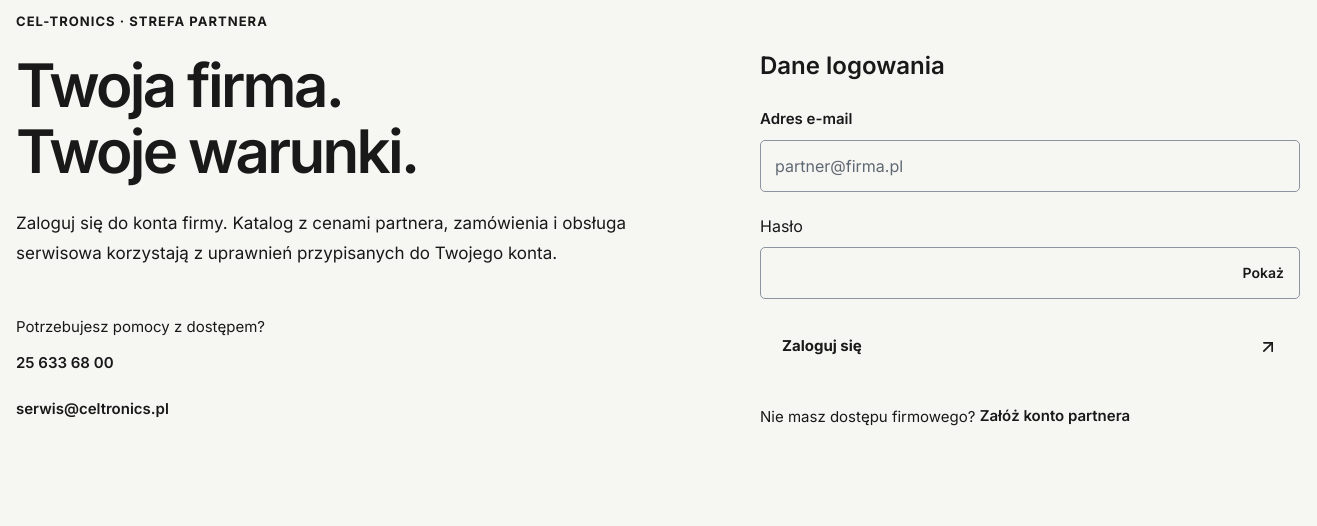
Scenario: login behavior › keeps credential errors generic and does not fetch a success session
Type "proof@example.invalid" into the field labelled "Adres e-mail". click: (1030, 166)
box: 760,140 -> 1300,192
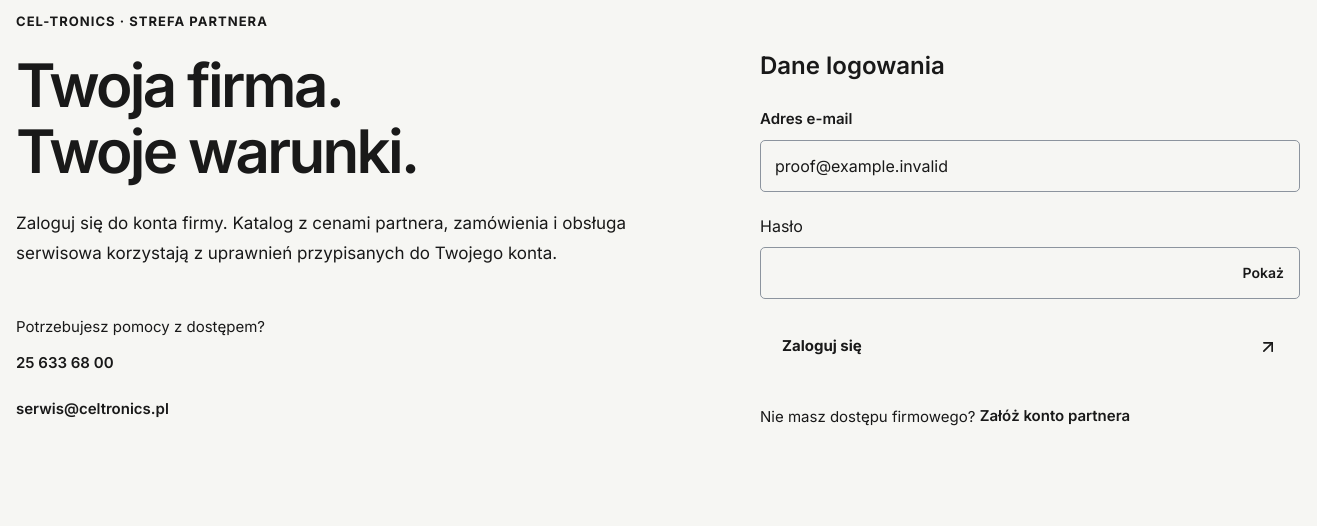
Type "test" into the password field labelled "Hasło". click: (1030, 272)
box: 760,246 -> 1300,298
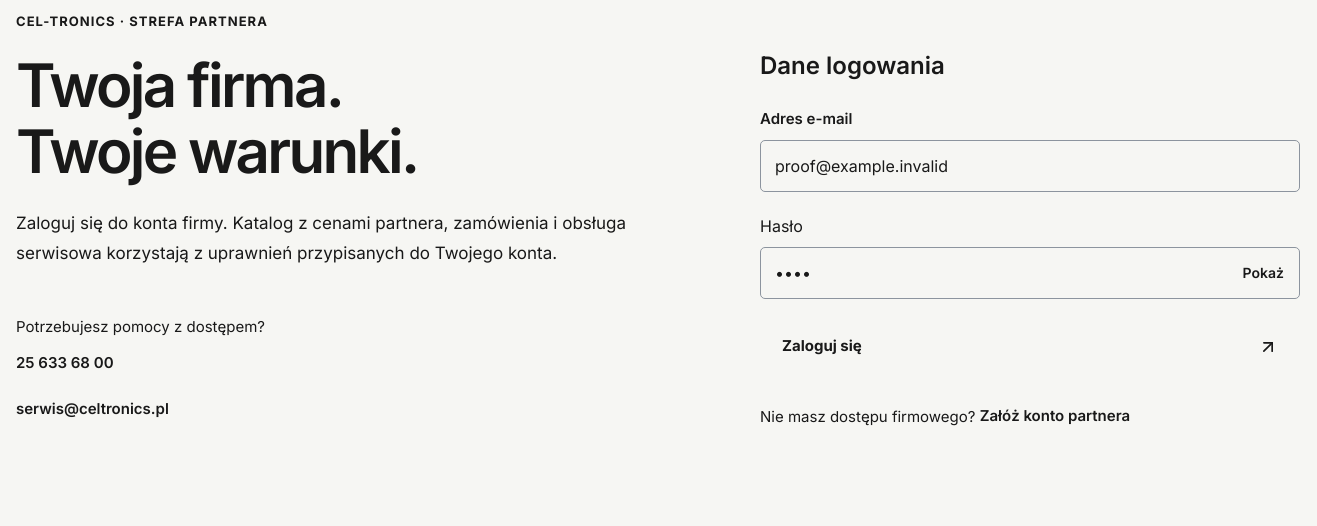
Submit the form, box 760,108 -> 1300,372
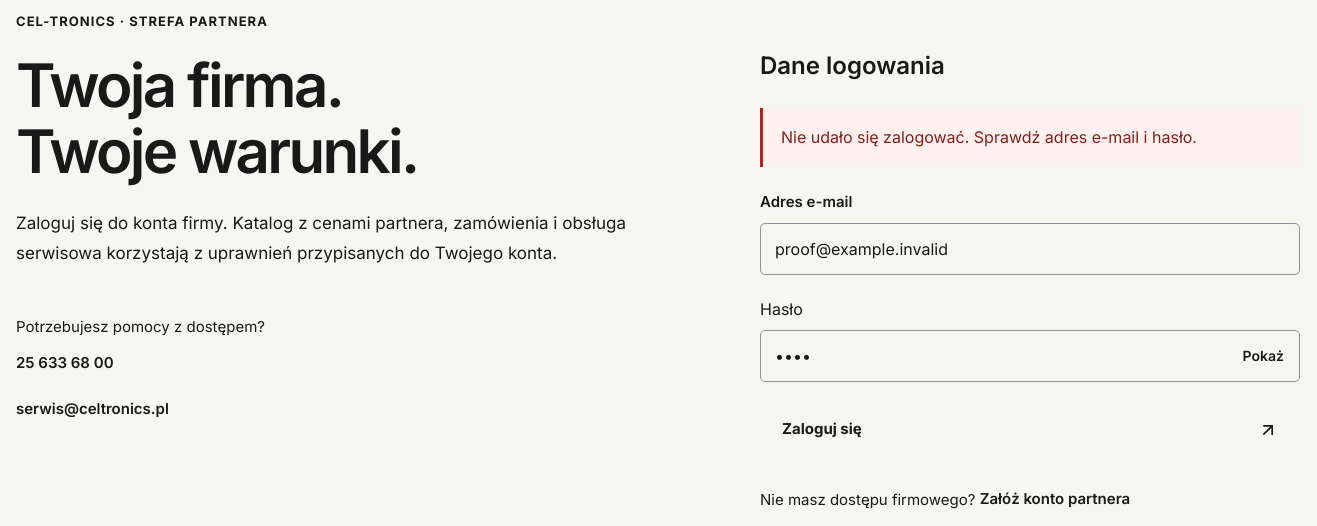
Expected: the message "Nie udało się zalogować. Sprawdź adres e-mail i hasło." is shown, 760,108 -> 1300,167
